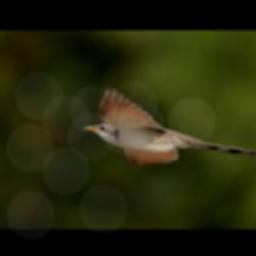Cuckoo: (83, 88, 256, 162)
